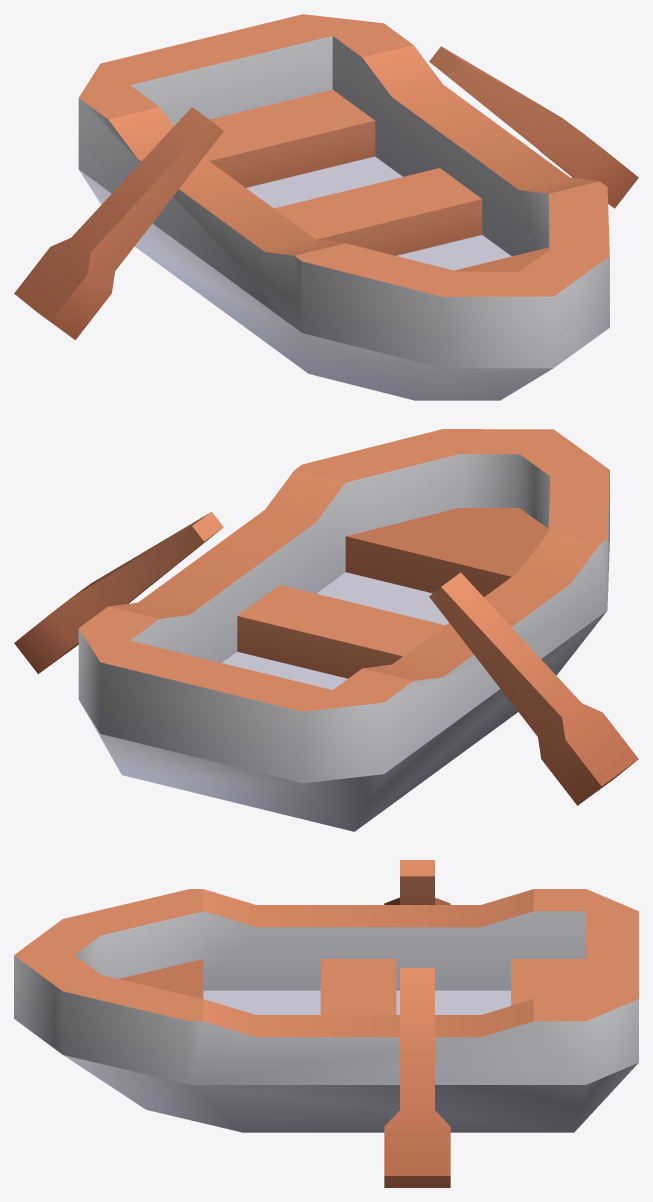
The model's file is kenney-watercraft-boat-row-large.glb.
3 views of the same model, one above another, from view 1: azimuth 30°, elevation 25°; view 2: azimuth 150°, elevation 25°; view 3: azimuth 270°, elevation 25° (orthographic). The views are drawn at different scales.
Parts seen in each view (by area): view 1: boat-row-large, paddles; view 2: boat-row-large, paddles; view 3: boat-row-large, paddles.
Part boxes in pixels (x1=…): boat-row-large: x1=78, y1=14, x2=609, y2=400; paddles: x1=14, y1=46, x2=638, y2=339; boat-row-large: x1=78, y1=429, x2=609, y2=831; paddles: x1=14, y1=512, x2=638, y2=805; boat-row-large: x1=14, y1=889, x2=638, y2=1132; paddles: x1=384, y1=860, x2=450, y2=1187.
Bounding box in the file's own units: 2.75 × 0.8477 × 2.85.
1 material, 1 textured.
